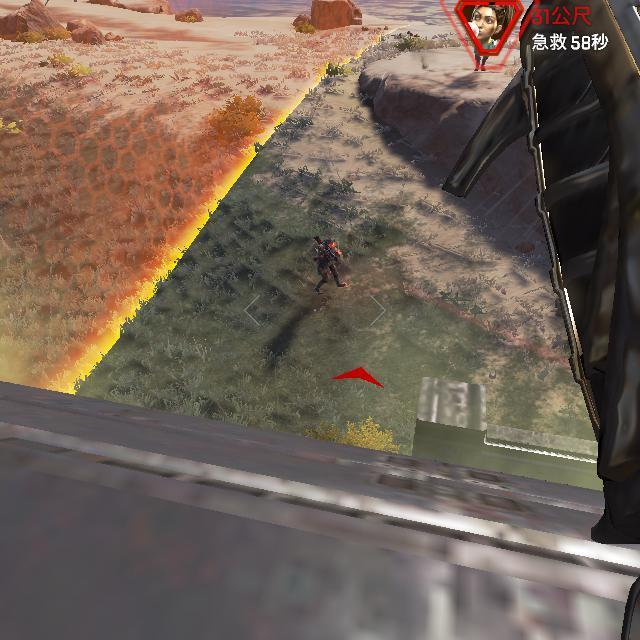avatar: (311, 235, 346, 293)
